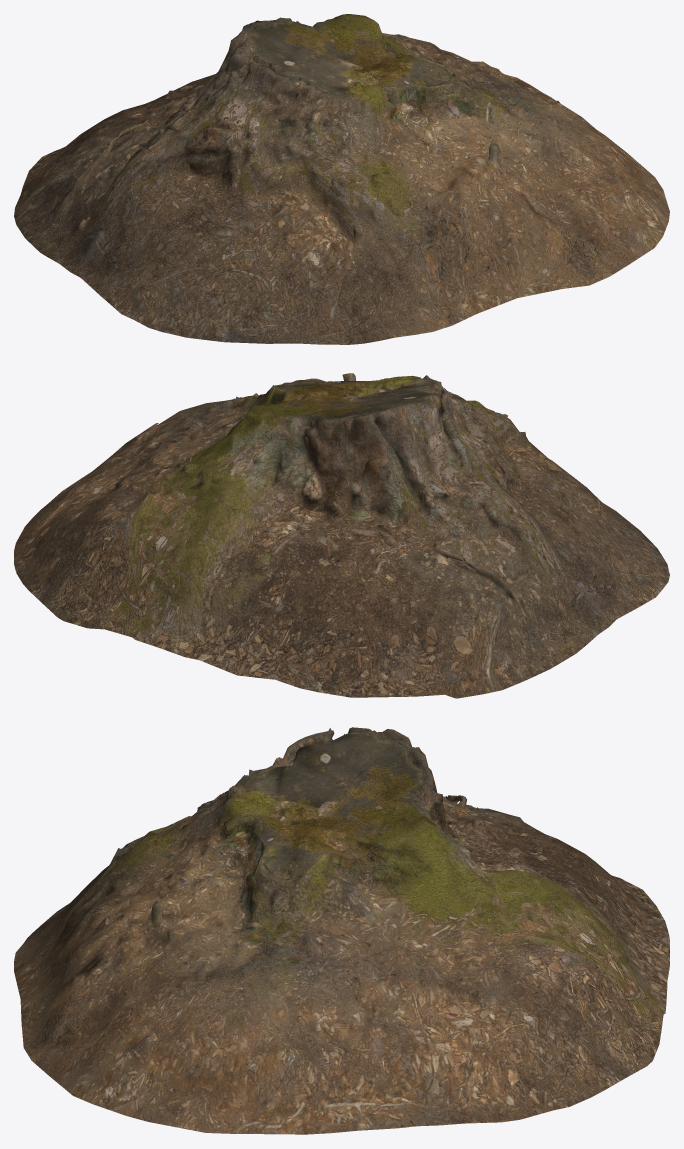
The model's file is tree_stump_02.glb.
3 renders of one model, top to bottom at view 1: azimuth 30°, elevation 25°; view 2: azimuth 150°, elevation 25°; view 3: azimuth 270°, elevation 25°, orthographic. The views are drawn at different scales.
Visible parts, largest first — view 1: tree_stump_02; view 2: tree_stump_02; view 3: tree_stump_02.
Boxes of the visible parts, x1,y1,x2,y2 form: tree_stump_02: (14,14,669,344); tree_stump_02: (14,373,669,698); tree_stump_02: (14,727,669,1134).
Size of the model in its own units: 1.52 by 0.521 by 1.39.
1 material, 1 textured.
